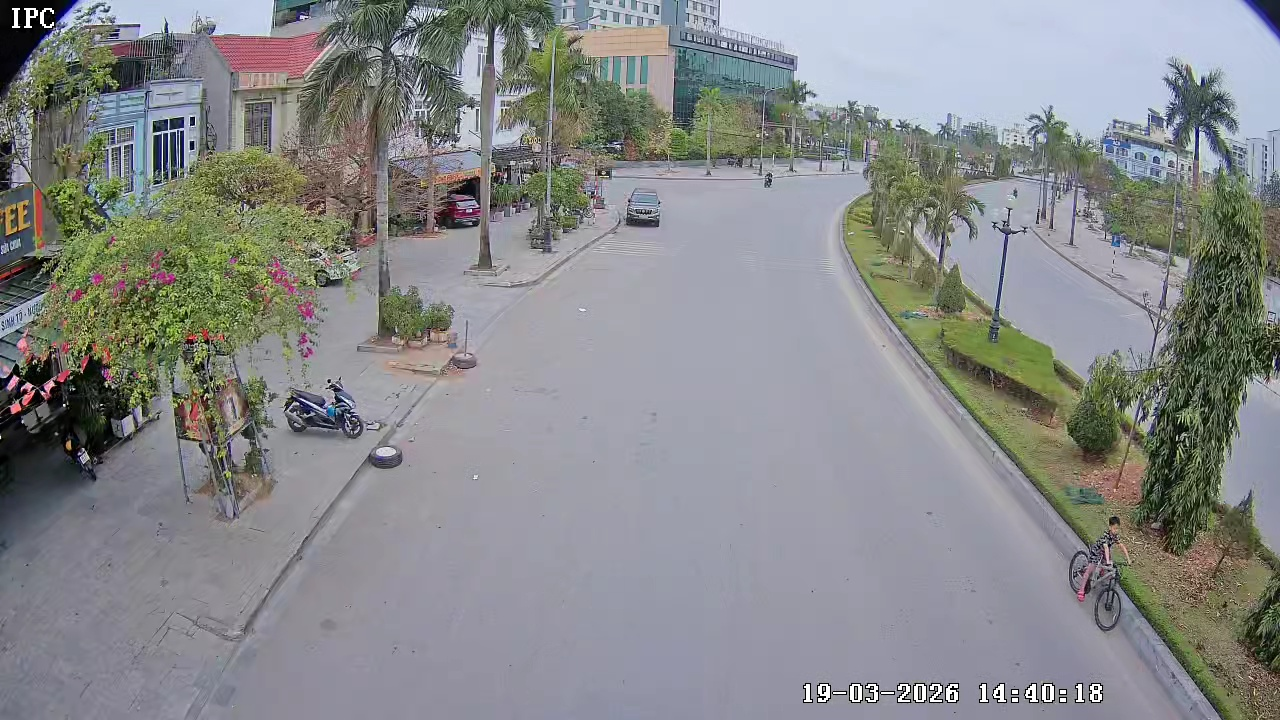bike: (1068, 513, 1128, 632)
car: (435, 190, 481, 230), (621, 185, 664, 227)
motorbike: (283, 374, 365, 439)
